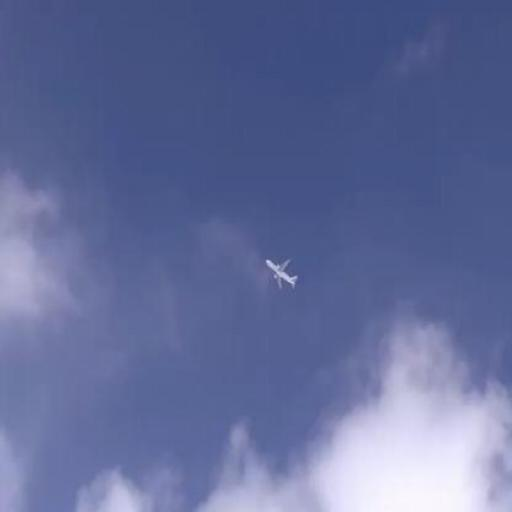aircraft: (266, 258, 299, 292)
